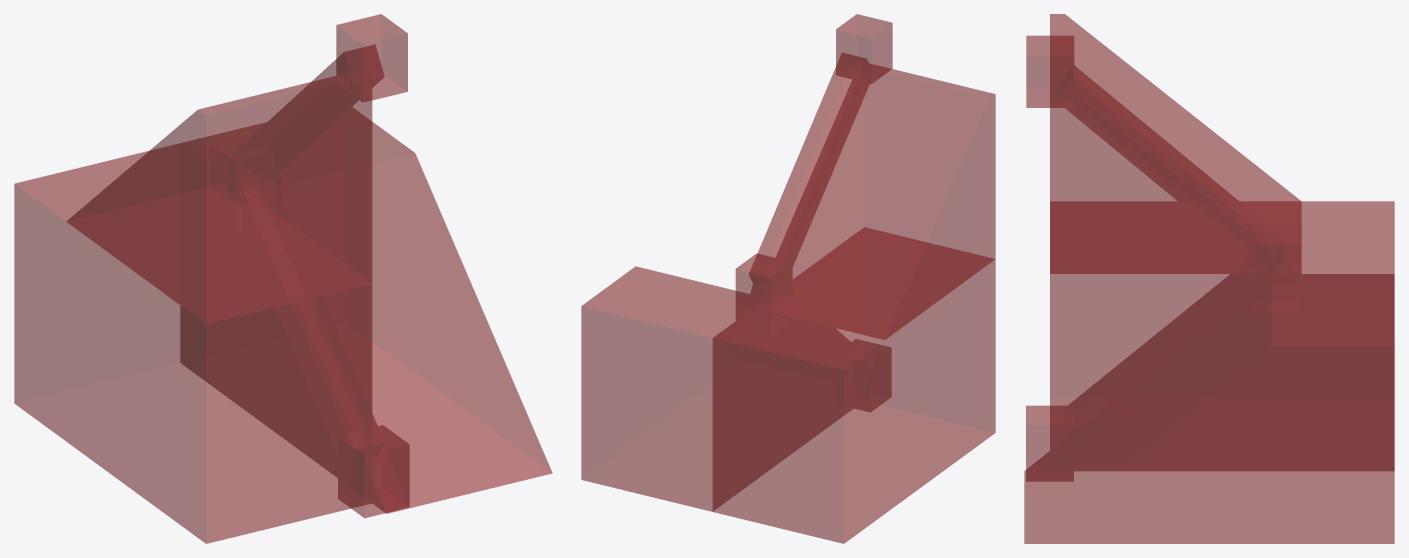
File: SM_Bld_Base_Stairs_03_Collision.fbx
3 views of the same model, side by side, from view 1: azimuth 30°, elevation 25°; view 2: azimuth 150°, elevation 25°; view 3: azimuth 270°, elevation 25° (orthographic). The views are drawn at different scales.
Parts seen in each view (by area): view 1: SM_Bld_Base_Stairs_03_Collision; view 2: SM_Bld_Base_Stairs_03_Collision; view 3: SM_Bld_Base_Stairs_03_Collision.
Boxes of the visible parts, x1=… form: SM_Bld_Base_Stairs_03_Collision: x1=14, y1=14, x2=552, y2=543; SM_Bld_Base_Stairs_03_Collision: x1=581, y1=14, x2=995, y2=543; SM_Bld_Base_Stairs_03_Collision: x1=1024, y1=14, x2=1394, y2=543.
Size of the model in its own units: 250 by 341 by 269.
